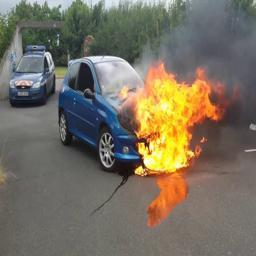fire: (121, 58, 240, 175)
